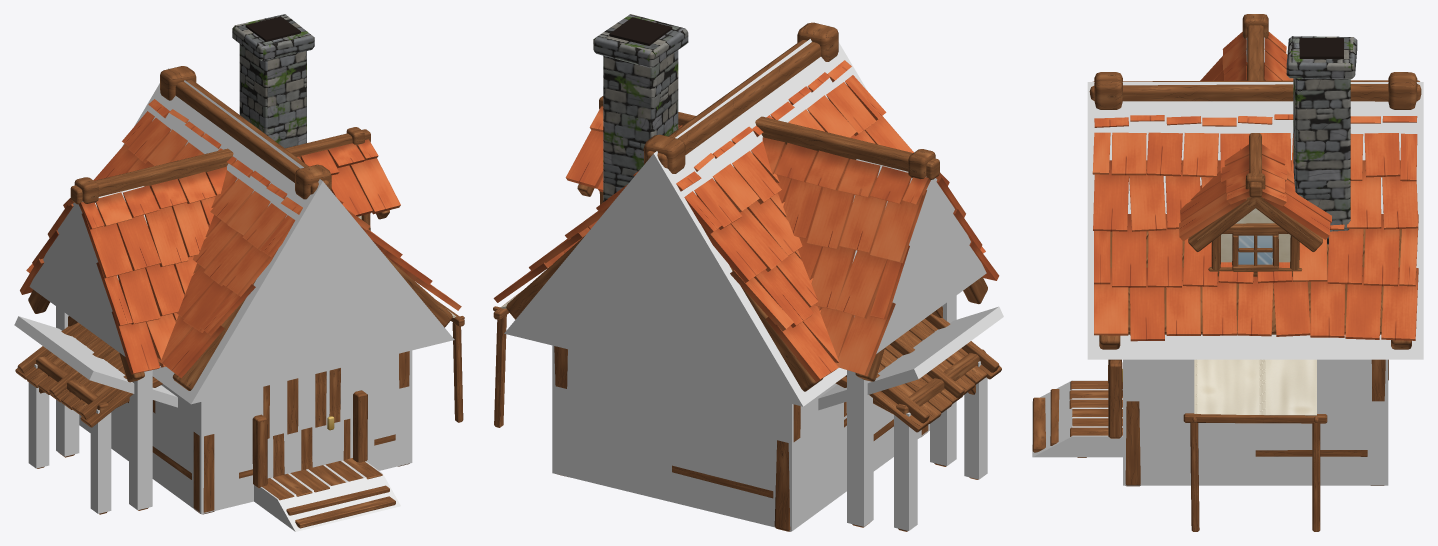
The model's file is SM_House_S.fbx.
3 views of the same model, side by side, from view 1: azimuth 30°, elevation 25°; view 2: azimuth 150°, elevation 25°; view 3: azimuth 270°, elevation 25° (orthographic). The views are drawn at different scales.
Visible parts, largest first — view 1: House_S_Col1, House_S_Col0, House_S_CrossGableRoof, House_S_Roof, House_S_Body, House_S_Chimney, House_S_Porch, House_S_CrossGableCol2, House_S_LeanTo, House_S_DormerRoof, House_S_CrossGable, House_S_PorchCol0 (+7 smaller); view 2: House_S_Col1, House_S_Col0, House_S_CrossGableRoof, House_S_Roof, House_S_Body, House_S_Chimney, House_S_CrossGableCol2, House_S_LeanTo, House_S_CrossGable, House_S_LeanToCol2, House_S_CrossGableCol1, House_S_LeanToCol1 (+4 smaller); view 3: House_S_Roof, House_S_Col0, House_S_Col1, House_S_Body, House_S_Chimney, House_S_Awning, House_S_Dormer, House_S_DormerRoof, House_S_Porch, House_S_PorchCol0, House_S_CrossGableRoof, House_S_CrossGable.
Boxes of the visible parts, box(x1,y1,x2,y2) form: House_S_Col1: box(122, 68, 454, 404); House_S_Col0: box(79, 350, 412, 514); House_S_CrossGableRoof: box(20, 166, 226, 374); House_S_Roof: box(26, 99, 461, 378); House_S_Body: box(128, 66, 452, 514); House_S_Chimney: box(232, 14, 314, 148); House_S_Porch: box(252, 390, 395, 528); House_S_CrossGableCol2: box(29, 186, 147, 356); House_S_LeanTo: box(15, 322, 162, 514); House_S_DormerRoof: box(297, 139, 400, 216); House_S_CrossGable: box(28, 148, 233, 510); House_S_PorchCol0: box(254, 460, 400, 531); House_S_Col1: box(504, 25, 867, 406); House_S_Col0: box(552, 345, 929, 531); House_S_CrossGableRoof: box(762, 137, 999, 375); House_S_Roof: box(493, 60, 985, 381); House_S_Body: box(506, 22, 928, 531); House_S_Chimney: box(593, 14, 688, 201); House_S_CrossGableCol2: box(852, 159, 986, 353); House_S_LeanTo: box(835, 313, 1001, 531); House_S_CrossGable: box(755, 116, 987, 527); House_S_LeanToCol2: box(818, 306, 1003, 410); House_S_CrossGableCol1: box(847, 370, 873, 526); House_S_LeanToCol1: box(894, 412, 917, 530); House_S_Roof: box(1092, 114, 1418, 341); House_S_Col0: box(1123, 359, 1388, 485); House_S_Col1: box(1087, 82, 1423, 359); House_S_Body: box(1089, 72, 1421, 486); House_S_Chimney: box(1286, 36, 1357, 244); House_S_Awning: box(1183, 359, 1327, 531); House_S_Dormer: box(1188, 133, 1322, 276); House_S_DormerRoof: box(1179, 144, 1331, 241); House_S_Porch: box(1032, 359, 1122, 457); House_S_PorchCol0: box(1032, 380, 1122, 457); House_S_CrossGableRoof: box(1200, 32, 1293, 80); House_S_CrossGable: box(1242, 14, 1268, 80).
Size of the model in its own units: 21.95 by 20.76 by 17.7.
